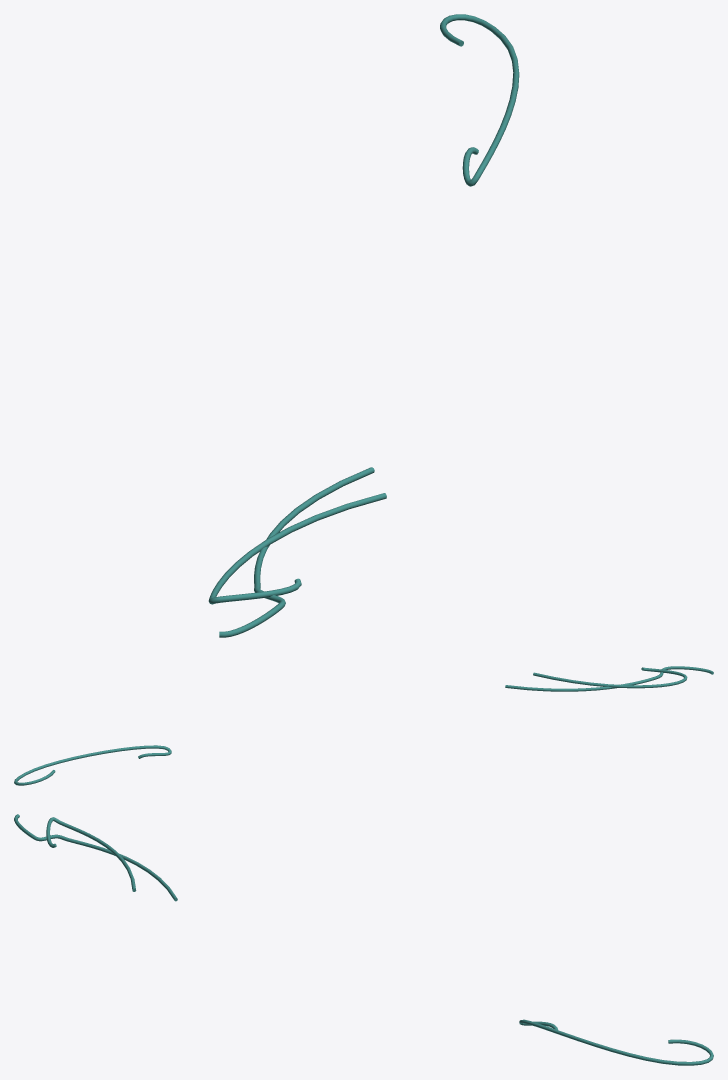
The model's file is FiosSoltos.fbx.
3 renders of one model, top to bottom at view 1: azimuth 30°, elevation 25°; view 2: azimuth 150°, elevation 25°; view 3: azimuth 270°, elevation 25°, orthographic. The views are drawn at different scales.
Parts seen in each view (by area): view 1: BézierCurve.018, BézierCurve.017, BézierCurve.016; view 2: BézierCurve.017, BézierCurve.016, BézierCurve.018; view 3: BézierCurve.017, BézierCurve.016, BézierCurve.018.
Boxes of the visible parts, x1,y1,x2,y2 form: BézierCurve.018: (208, 493, 386, 604); BézierCurve.017: (440, 14, 519, 186); BézierCurve.016: (219, 467, 374, 637); BézierCurve.017: (14, 745, 171, 785); BézierCurve.016: (505, 666, 713, 691); BézierCurve.018: (533, 667, 687, 688); BézierCurve.017: (519, 1019, 713, 1065); BézierCurve.016: (14, 814, 177, 901); BézierCurve.018: (46, 817, 136, 891).
Bounding box in the file's own units: 303 × 10.72 × 364.
